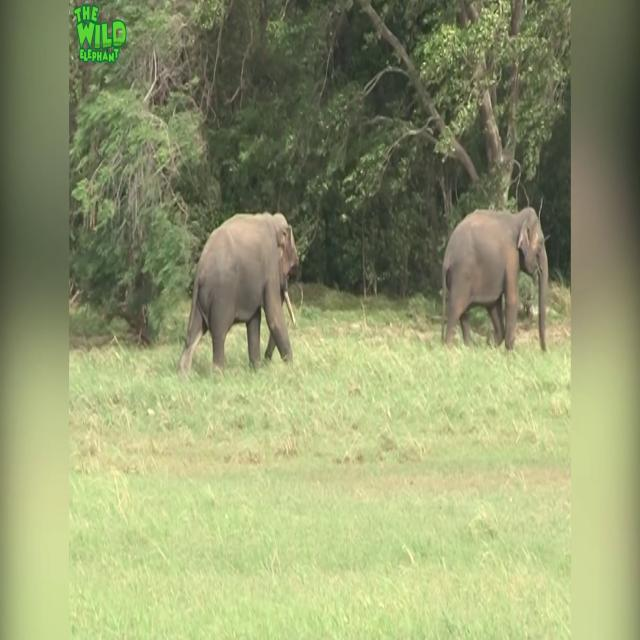Elephant: (178, 210, 300, 377), (440, 204, 550, 352)
